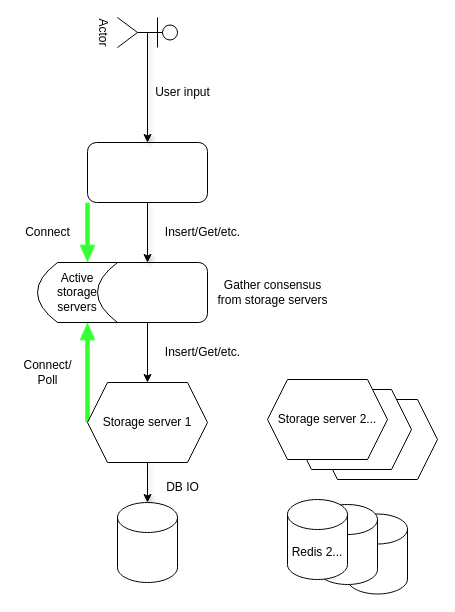
This 455x612 diagram has some shape labels left out. The centre of each missing label's shape, as x and y in pixels:
Client: (147,172)
Name server: (147,292)
Redis 1: (147,542)
